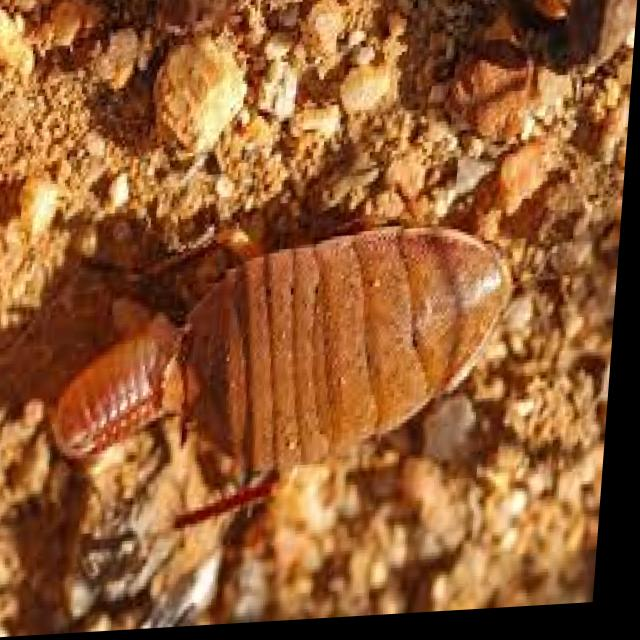Cockroach: (0, 119, 595, 601)
